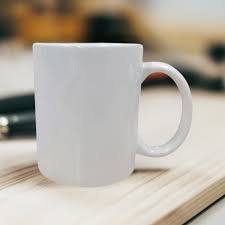mug: (22, 31, 205, 184)
